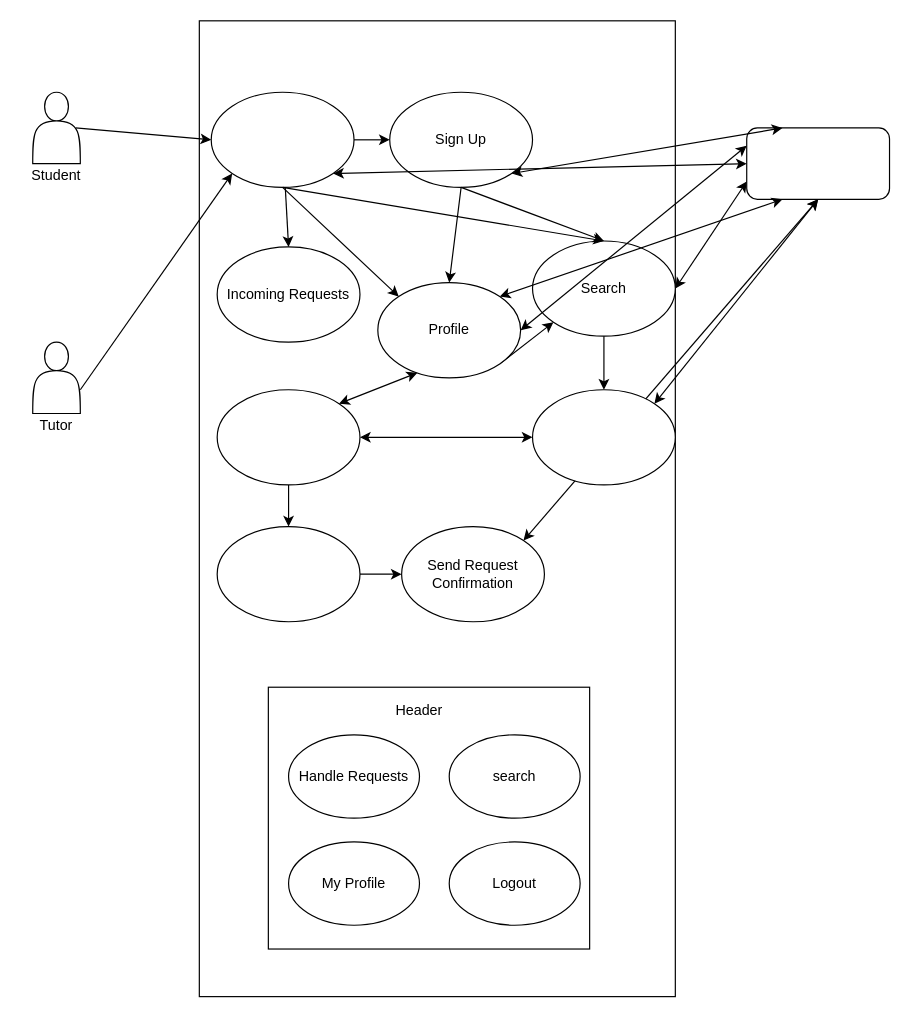
Some shapes in this 910 by 1017 pixel diagram are drawn without their labels. Here are the shapes that lost their labels. From the top down, the centre of each, then its label:
the point at 282,139: Login
the point at 818,163: Database
the point at 288,437: Tutor's Profile (restricted view)
the point at 603,437: Search Results
the point at 288,573: Send Request
